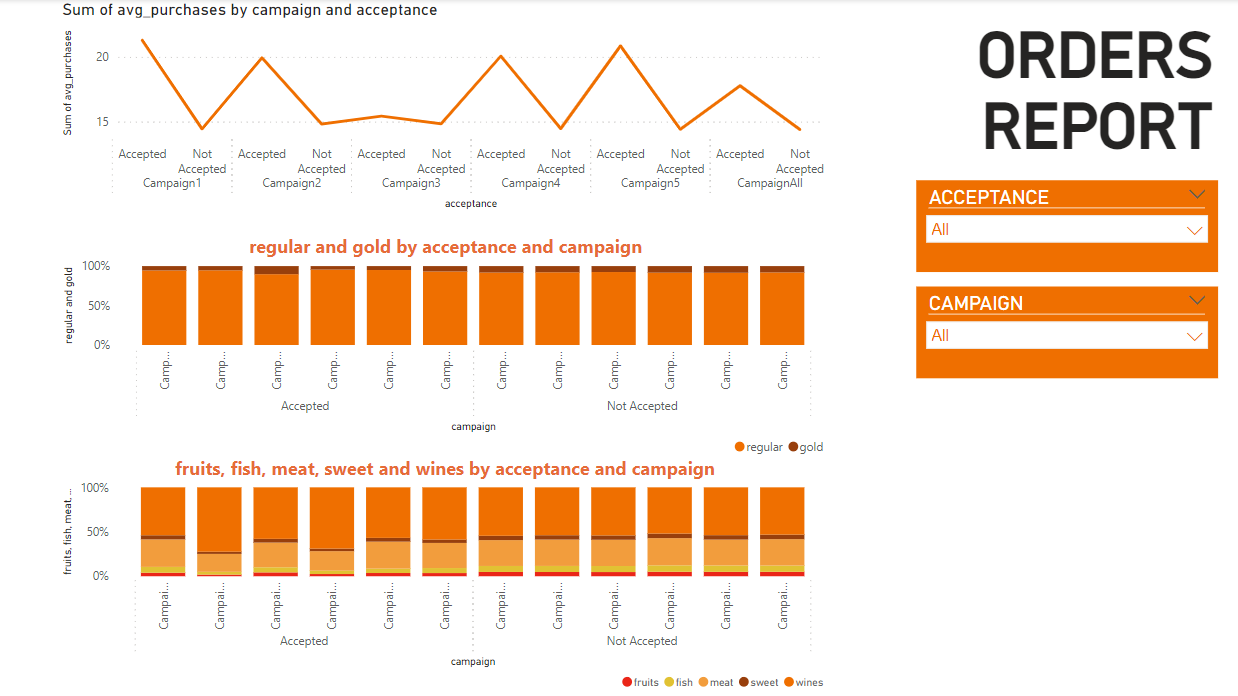

This screenshot's page, from the dashboard's own definition file:
{"tool":"powerbi","page":{"name":"Orders","canvas":[1280,720],"ordinal":2},"visuals":[{"type":"slicer","fields":{"Values":["public ifood_table_campaign_agg (2).acceptance"]},"box":[947.1,186.1,310,94.3],"z":0},{"type":"slicer","fields":{"Values":["public ifood_table_campaign_agg (2).campaign"]},"box":[947.1,296.1,310,94.3],"z":1000},{"type":"hundredPercentStackedColumnChart","fields":{"Y":["Sum(public ifood_table_campaign_agg (2).avg_regular)","Sum(public ifood_table_campaign_agg (2).avg_gold)"],"Category":["public ifood_table_campaign_agg (2).acceptance","public ifood_table_campaign_agg (2).campaign"]},"box":[65.7,241.4,795.7,237.1],"z":2000},{"type":"hundredPercentStackedColumnChart","fields":{"Y":["Sum(public ifood_table_campaign_agg (2).avg_fruits)","Sum(public ifood_table_campaign_agg (2).avg_fish)","Sum(public ifood_table_campaign_agg (2).avg_meat)","Sum(public ifood_table_campaign_agg (2).avg_sweet)","Sum(public ifood_table_campaign_agg (2).avg_wines)"],"Category":["public ifood_table_campaign_agg (2).acceptance","public ifood_table_campaign_agg (2).campaign"]},"box":[64.3,468.6,797.1,251.4],"z":3000},{"type":"textbox","box":[972.9,14.3,284.3,165.7],"z":4000},{"type":"lineChart","fields":{"Category":["public ifood_table_campaign_agg (2).campaign","public ifood_table_campaign_agg (2).acceptance"],"Y":["Sum(public ifood_table_campaign_agg (2).avg_purchases)"]},"box":[64.3,0,797.1,221.4],"z":5000}]}

Visuals, with their boxes in screenshot pixels (x1, y1, x2, y2), scaled from the page's 1280x720 canvas onto the 1238x696 screenshot:
slicer - public ifood_table_campaign_agg (2).acceptance: 916, 180, 1216, 271
slicer - public ifood_table_campaign_agg (2).campaign: 916, 286, 1216, 377
hundredPercentStackedColumnChart - Sum(public ifood_table_campaign_agg (2).avg_regular) x Sum(public ifood_table_campaign_agg (2).avg_gold): 64, 233, 833, 463
hundredPercentStackedColumnChart - Sum(public ifood_table_campaign_agg (2).avg_fruits) x Sum(public ifood_table_campaign_agg (2).avg_fish): 62, 453, 833, 695
textbox: 941, 14, 1216, 174
lineChart - public ifood_table_campaign_agg (2).campaign x public ifood_table_campaign_agg (2).acceptance: 62, 0, 833, 214
